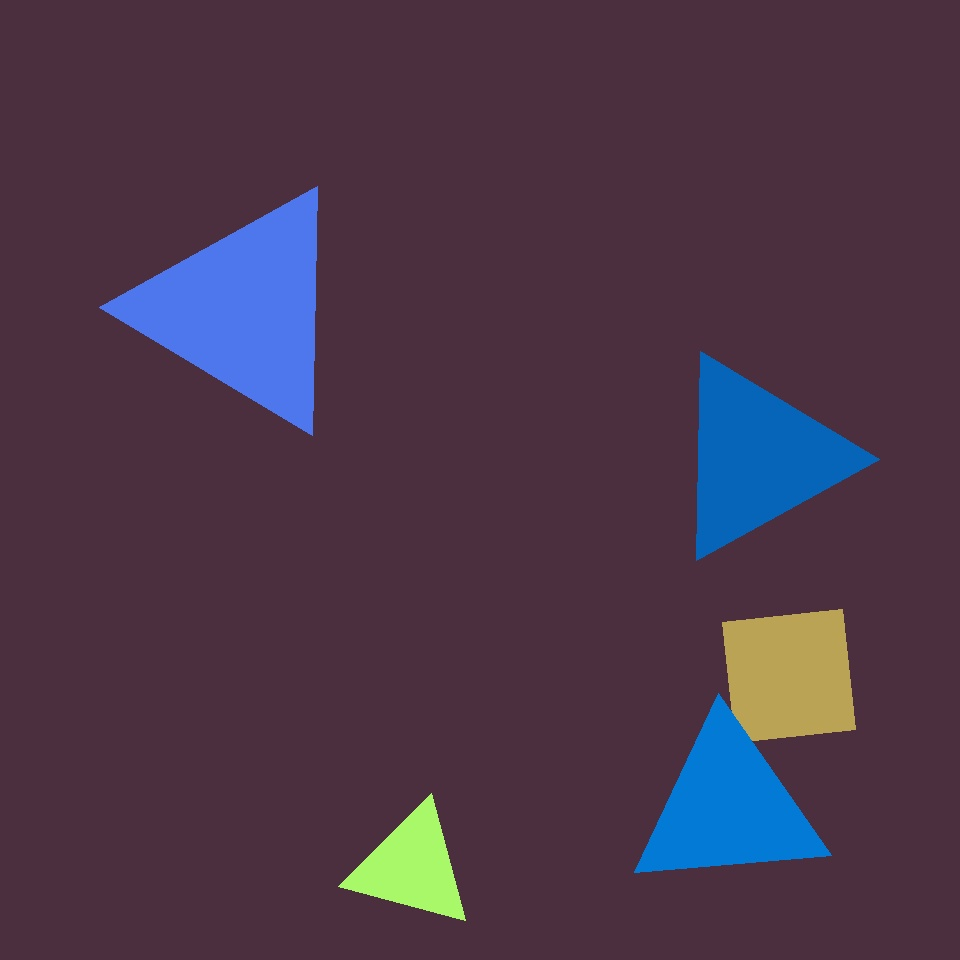circle: (253, 481, 526, 771), (134, 186, 352, 434), (668, 352, 850, 562), (630, 717, 826, 896), (442, 86, 611, 275), (348, 804, 476, 930)
square: (602, 218, 861, 477), (362, 412, 579, 629), (723, 610, 856, 742)
triangle: (95, 274, 466, 644)
